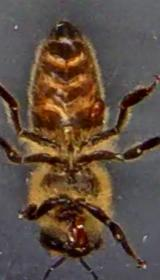varroa_mite: (80, 90, 110, 126)
